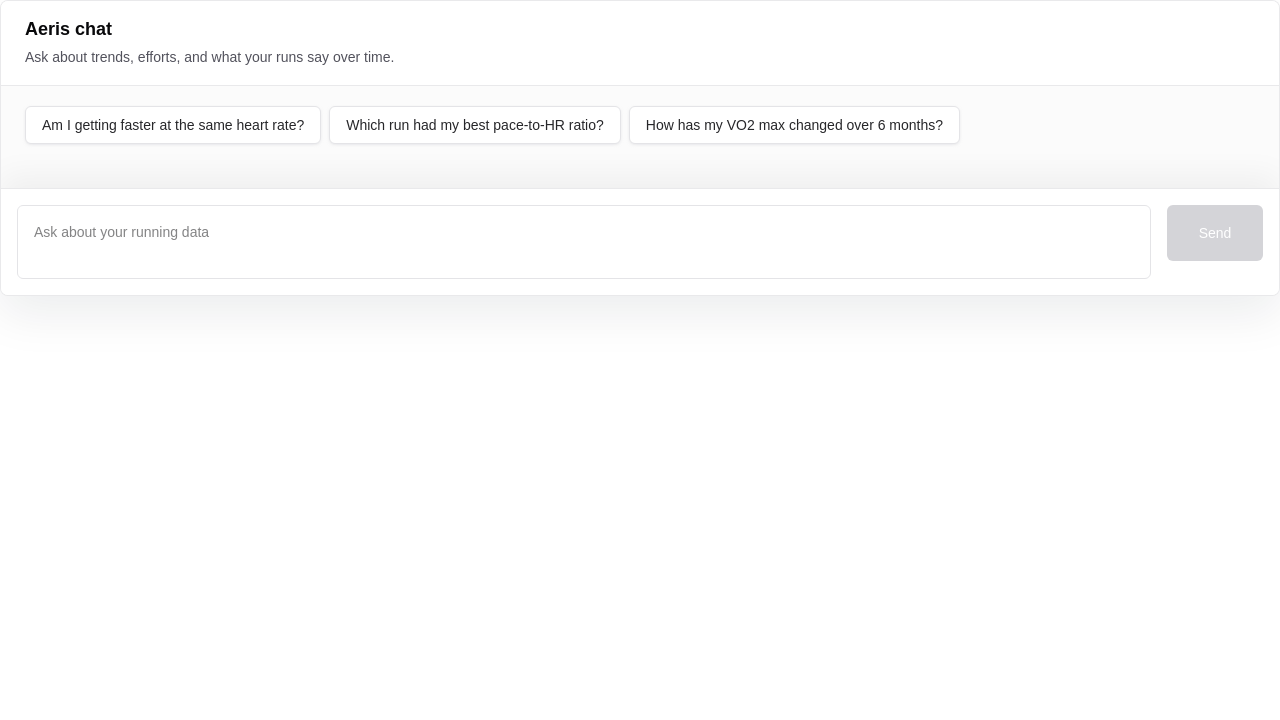
Scenario: ChatPanel › shows a server error while preserving any partial streamed response
In the text box named "message": [584, 242] box [17,205,1151,279], type "How am I doing?"
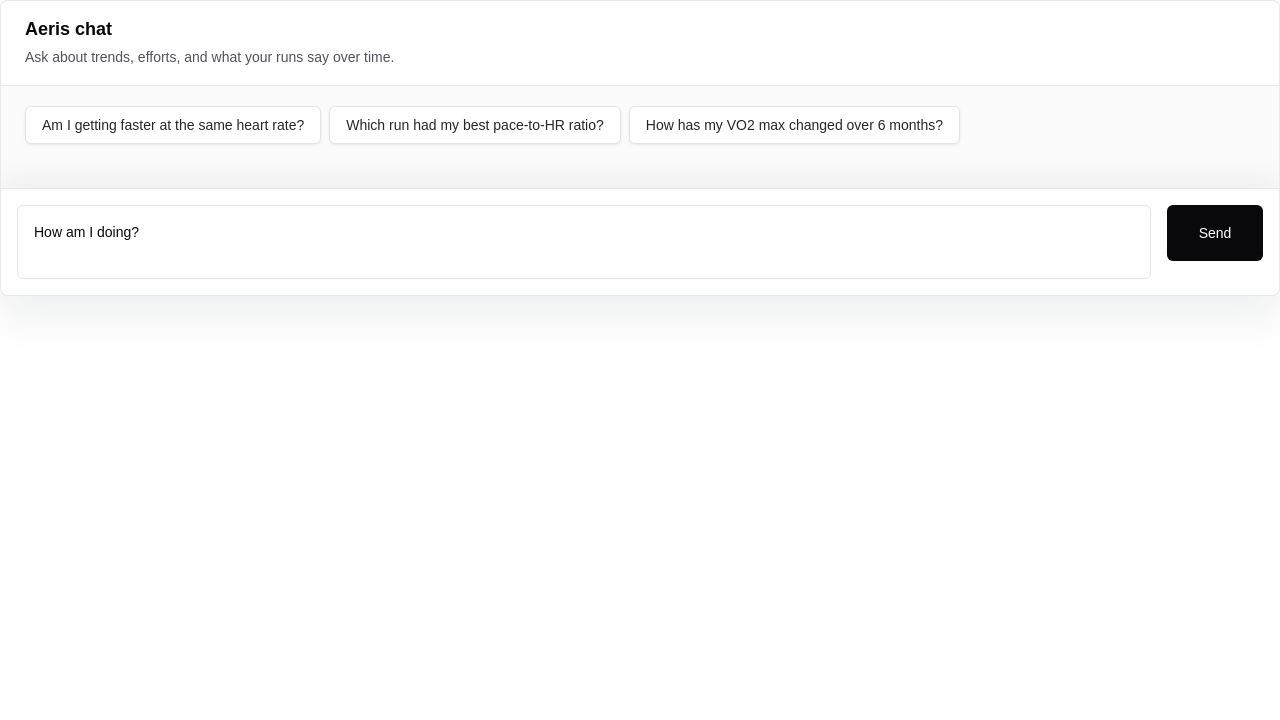
Click the button "Send": [1215, 233] box [1167,205,1263,261]
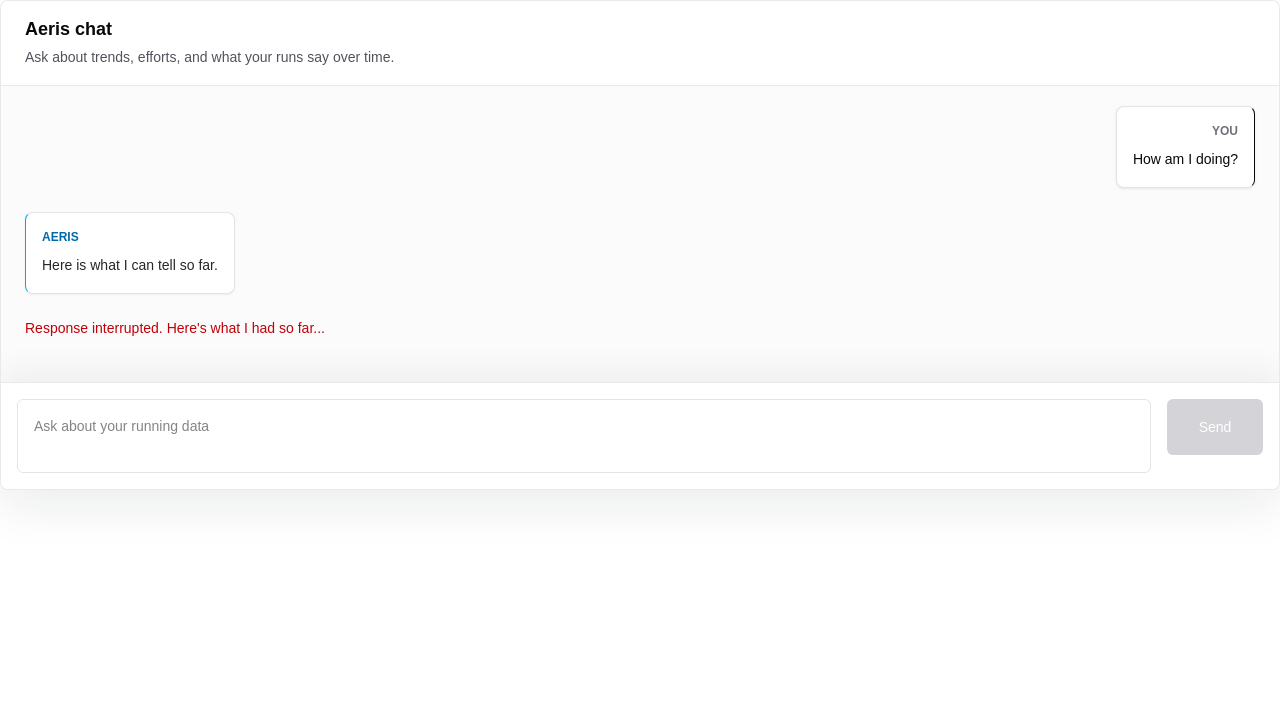
Expected: the text "Here is what I can tell so far." is shown, [42,253,218,277]
Expected: the text "Response interrupted. Here's what I had so far..." is shown, [25,320,325,336]
